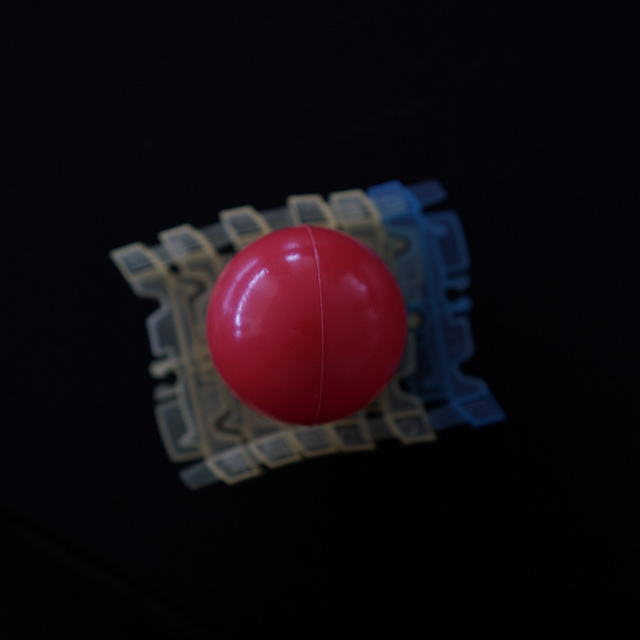Ball: (207, 226, 407, 427)
